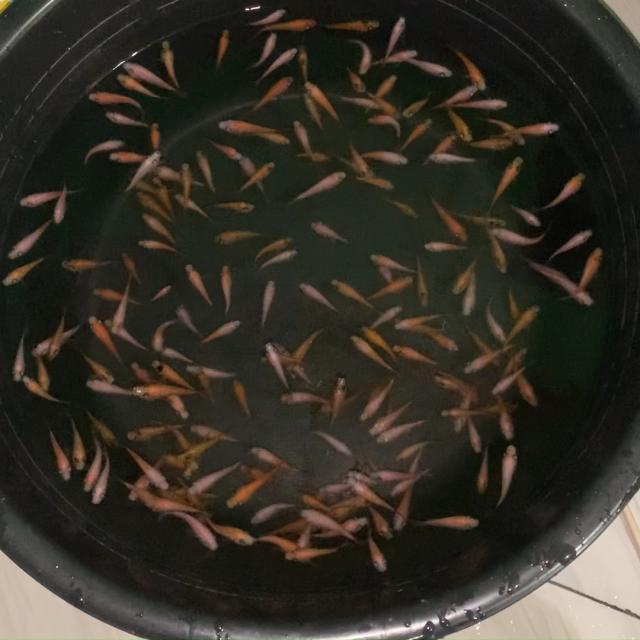nila: (226, 454, 294, 510), (280, 169, 346, 209), (86, 312, 128, 373), (346, 334, 402, 378), (188, 456, 248, 496), (120, 61, 184, 98), (124, 450, 166, 506), (270, 338, 316, 388), (5, 216, 54, 262), (566, 246, 605, 303), (427, 193, 472, 242), (284, 324, 327, 374), (304, 78, 346, 128), (360, 396, 412, 436), (540, 170, 589, 212), (162, 420, 202, 471), (305, 505, 358, 543), (22, 372, 74, 410), (121, 152, 163, 199), (168, 514, 218, 553), (98, 317, 150, 354), (116, 72, 172, 106), (358, 322, 404, 363), (126, 445, 169, 488), (136, 190, 180, 232), (32, 322, 84, 357), (492, 360, 536, 401), (346, 476, 396, 512), (152, 358, 198, 397), (0, 254, 52, 288), (463, 344, 518, 376), (460, 322, 500, 366), (548, 227, 598, 262), (373, 413, 426, 446), (506, 300, 544, 346), (453, 44, 489, 92), (490, 156, 522, 210), (253, 46, 298, 84), (178, 430, 229, 463), (86, 88, 146, 116), (318, 512, 370, 544), (294, 281, 341, 316), (247, 443, 305, 471), (512, 356, 542, 410), (150, 174, 183, 223), (120, 477, 166, 512), (264, 342, 296, 392), (482, 296, 514, 346), (500, 342, 538, 384), (16, 184, 82, 208), (182, 262, 215, 310), (140, 212, 184, 248), (236, 156, 269, 204), (434, 78, 482, 111), (80, 434, 106, 494), (360, 378, 396, 421), (46, 427, 74, 482), (255, 16, 319, 40), (486, 223, 550, 247), (257, 72, 296, 111), (366, 276, 416, 306), (496, 442, 518, 510), (332, 278, 376, 312), (483, 116, 527, 150), (150, 162, 207, 188), (314, 388, 363, 418), (448, 251, 479, 298), (83, 376, 139, 402), (404, 52, 456, 80), (219, 114, 279, 138), (500, 120, 564, 142), (122, 163, 160, 200), (85, 412, 124, 448), (247, 499, 298, 526), (200, 317, 244, 348), (416, 514, 484, 534), (438, 102, 471, 143), (251, 232, 296, 262), (160, 36, 184, 92), (78, 350, 114, 387), (308, 216, 352, 246), (400, 116, 433, 156), (383, 14, 409, 64), (411, 253, 434, 309), (392, 480, 414, 538), (90, 448, 112, 506), (352, 147, 410, 169), (452, 209, 510, 231), (213, 520, 258, 548), (501, 202, 546, 230), (342, 38, 375, 76), (80, 138, 128, 164), (492, 397, 520, 441), (298, 86, 326, 130), (556, 280, 598, 309), (394, 436, 432, 468), (240, 160, 278, 192), (392, 344, 442, 368), (111, 275, 132, 332), (366, 250, 420, 272), (90, 284, 139, 308), (283, 544, 341, 564), (124, 427, 188, 445), (134, 385, 198, 403), (424, 132, 456, 168), (394, 311, 454, 330), (194, 147, 218, 194), (486, 227, 510, 274), (161, 448, 201, 476), (178, 479, 210, 514), (367, 48, 420, 69), (147, 496, 202, 516), (314, 431, 358, 456), (528, 258, 570, 284), (462, 263, 481, 320), (194, 423, 248, 443), (256, 248, 299, 273), (151, 318, 180, 355), (250, 34, 278, 72), (66, 414, 86, 467), (132, 236, 180, 258), (58, 257, 120, 274), (364, 532, 389, 574), (49, 310, 70, 360), (211, 227, 263, 247), (207, 198, 259, 218), (364, 112, 404, 138), (318, 18, 383, 34), (351, 172, 398, 194), (366, 92, 400, 122), (254, 534, 300, 556), (326, 376, 347, 424), (426, 325, 462, 353), (259, 278, 277, 334), (474, 442, 492, 497), (459, 135, 517, 152), (436, 375, 477, 399), (105, 110, 154, 130), (240, 8, 294, 26), (240, 464, 288, 484), (232, 377, 256, 417), (338, 94, 386, 114), (10, 330, 27, 386), (178, 194, 212, 222), (392, 470, 430, 495), (182, 364, 245, 379), (368, 504, 394, 540), (461, 419, 487, 455), (290, 119, 314, 158), (423, 146, 481, 162), (51, 178, 70, 226), (182, 430, 199, 483), (31, 347, 51, 392), (119, 251, 144, 287), (284, 148, 334, 166), (446, 369, 478, 397), (152, 476, 186, 502), (256, 354, 308, 371), (178, 160, 195, 212), (159, 346, 197, 369), (163, 391, 191, 422), (368, 306, 404, 330), (384, 196, 420, 220), (197, 369, 218, 410), (131, 357, 158, 388), (420, 240, 472, 256), (294, 516, 317, 552), (176, 304, 200, 338), (110, 150, 158, 167), (401, 94, 430, 122), (269, 518, 314, 536), (442, 404, 492, 420), (213, 27, 230, 74), (218, 262, 233, 315), (295, 486, 328, 510), (276, 391, 332, 405), (375, 73, 400, 104), (209, 140, 244, 162), (448, 98, 512, 110), (476, 399, 520, 416), (352, 142, 374, 176), (375, 254, 394, 292), (324, 504, 364, 522), (294, 43, 312, 83), (454, 392, 471, 434), (398, 318, 446, 332), (333, 492, 374, 508), (148, 119, 164, 159), (251, 132, 291, 148), (344, 64, 364, 94), (371, 469, 417, 482), (334, 153, 362, 174), (347, 466, 378, 484), (148, 284, 174, 304), (506, 286, 520, 322), (411, 445, 428, 473), (316, 482, 356, 492)
